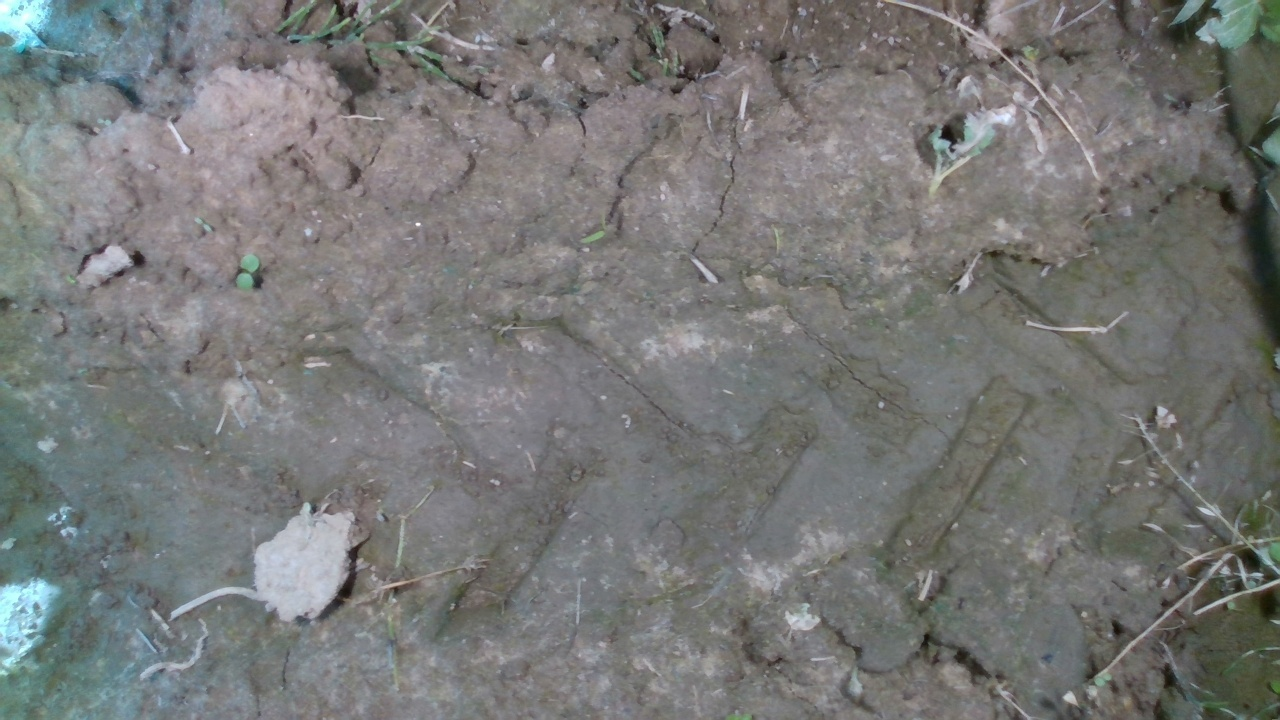weed: (578, 199, 608, 245), (234, 252, 260, 292), (192, 216, 213, 233)
